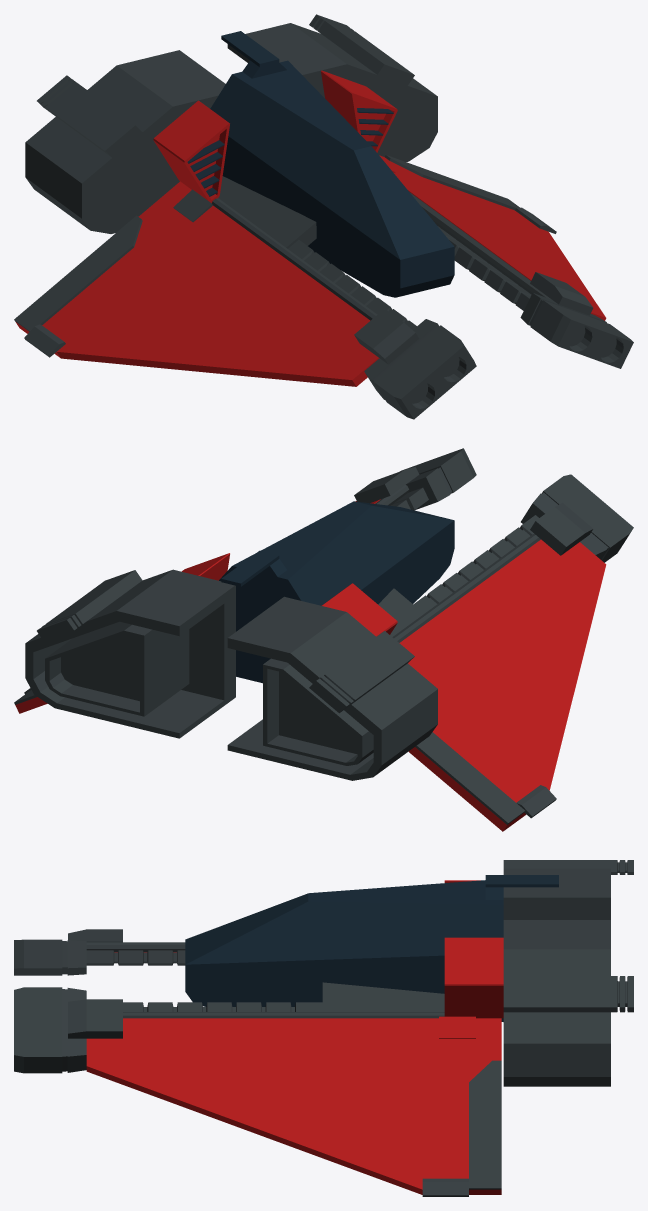
Rendered from SpaceShip3.fbx.
3 views of the same model, one above another, from view 1: azimuth 30°, elevation 25°; view 2: azimuth 150°, elevation 25°; view 3: azimuth 270°, elevation 25° (orthographic). The views are drawn at different scales.
Parts seen in each view (by area): view 1: SpaceShip_4.001; view 2: SpaceShip_4.001; view 3: SpaceShip_4.001.
Boxes of the visible parts, x1=… form: SpaceShip_4.001: x1=14, y1=14, x2=633, y2=419; SpaceShip_4.001: x1=14, y1=448, x2=633, y2=831; SpaceShip_4.001: x1=14, y1=860, x2=633, y2=1196.
Bounding box in the file's own units: 5.33 × 2.14 × 5.92.
